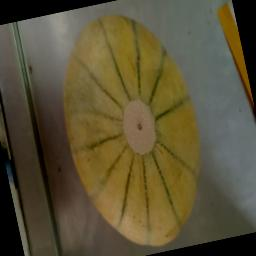Melon Ripe: (32, 0, 232, 256)
